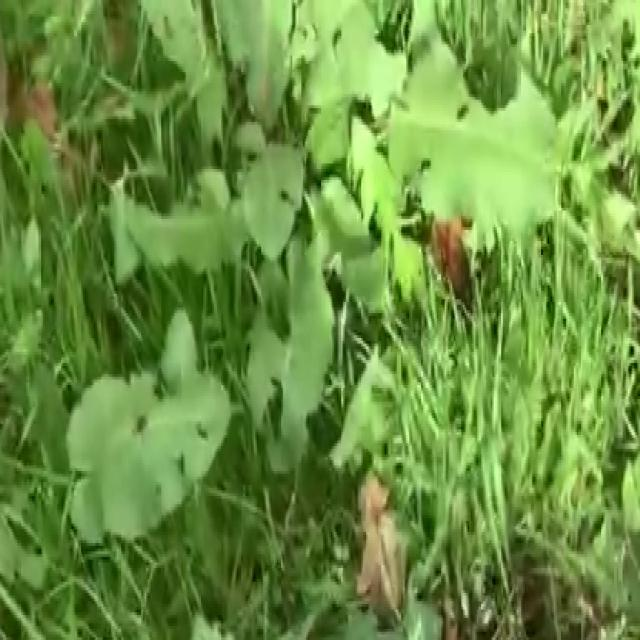organic waste: (43, 0, 583, 587)
